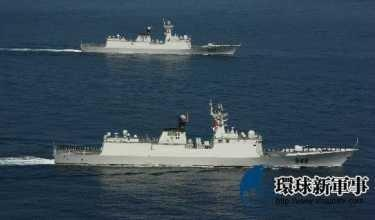warship: (52, 108, 361, 165), (76, 18, 240, 55)
